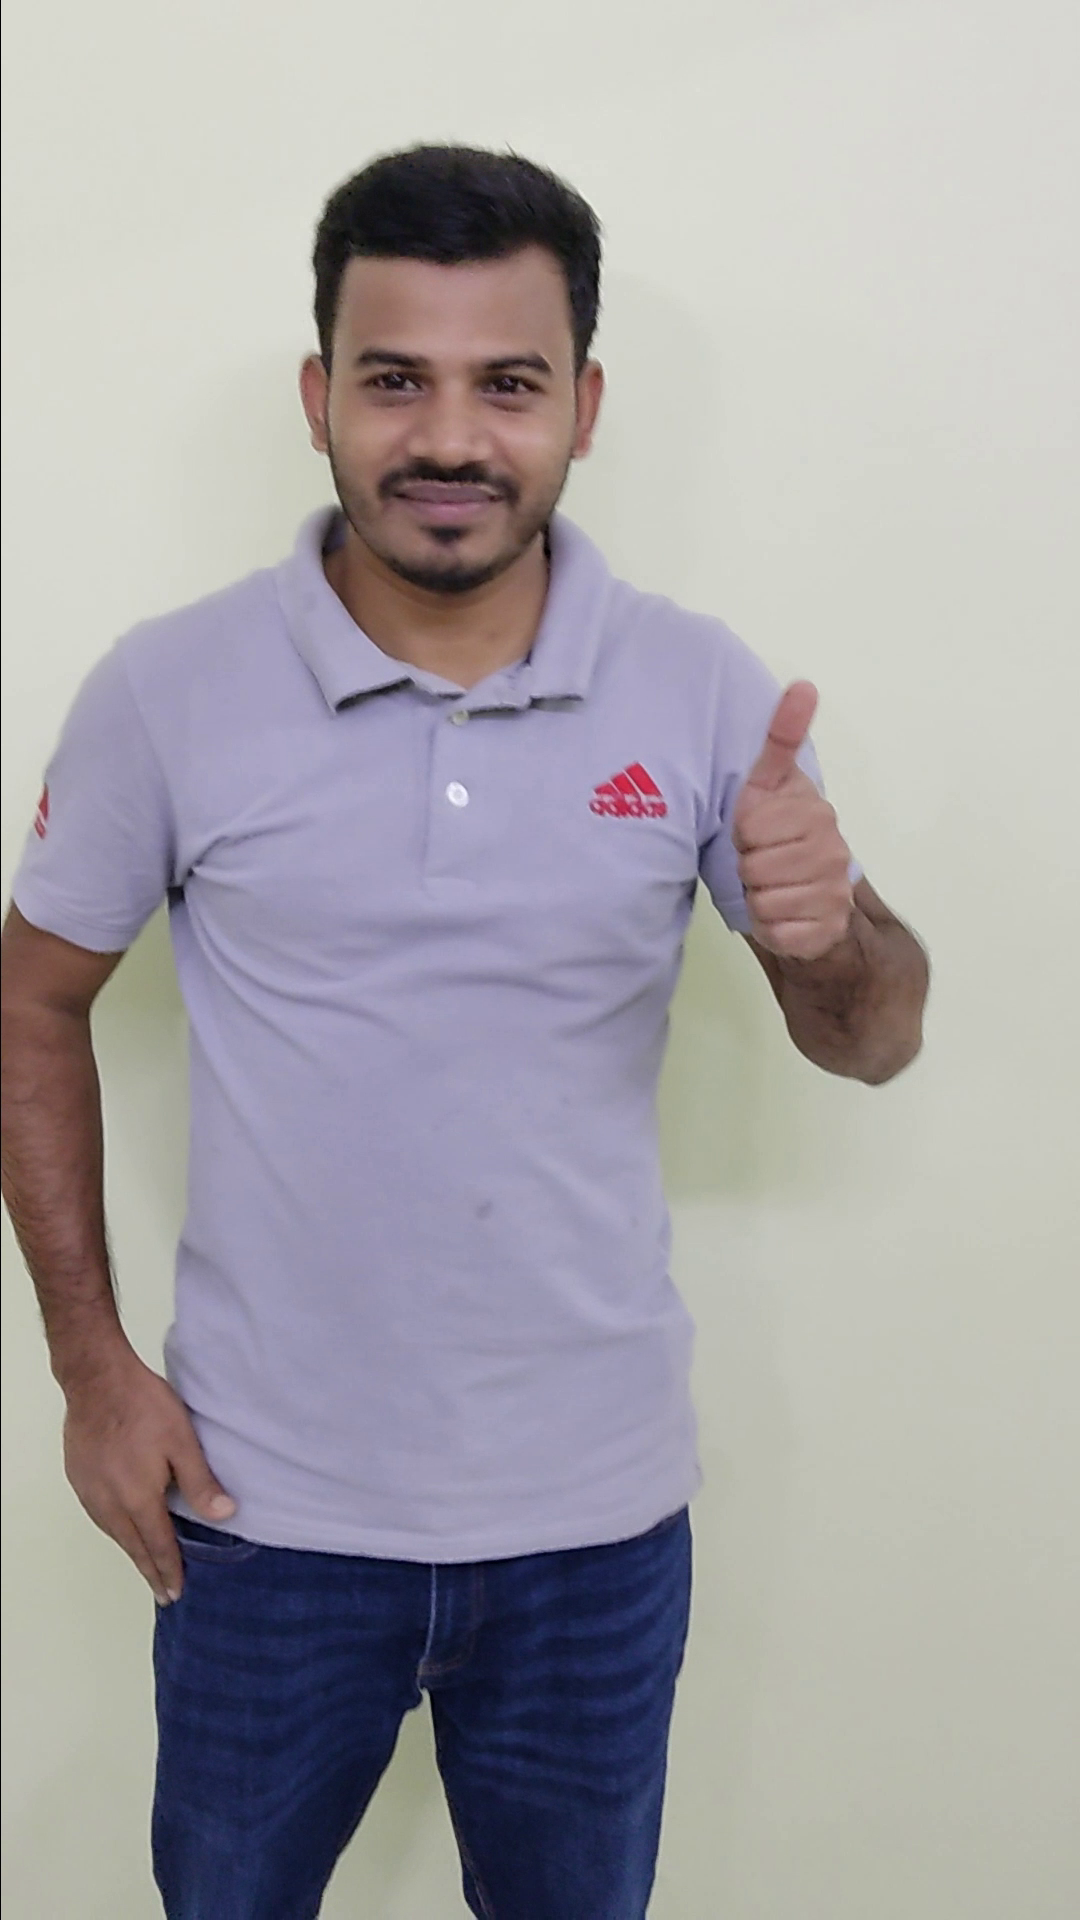Like: (699, 651, 899, 978)
None: (51, 1337, 255, 1622)
